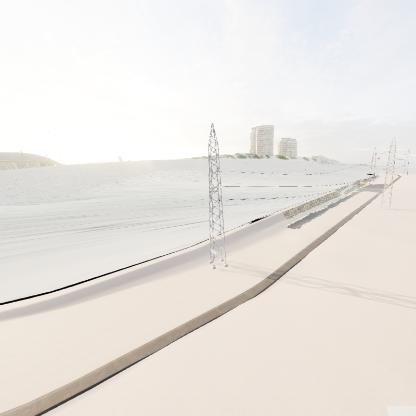tower: (203, 121, 230, 272)
